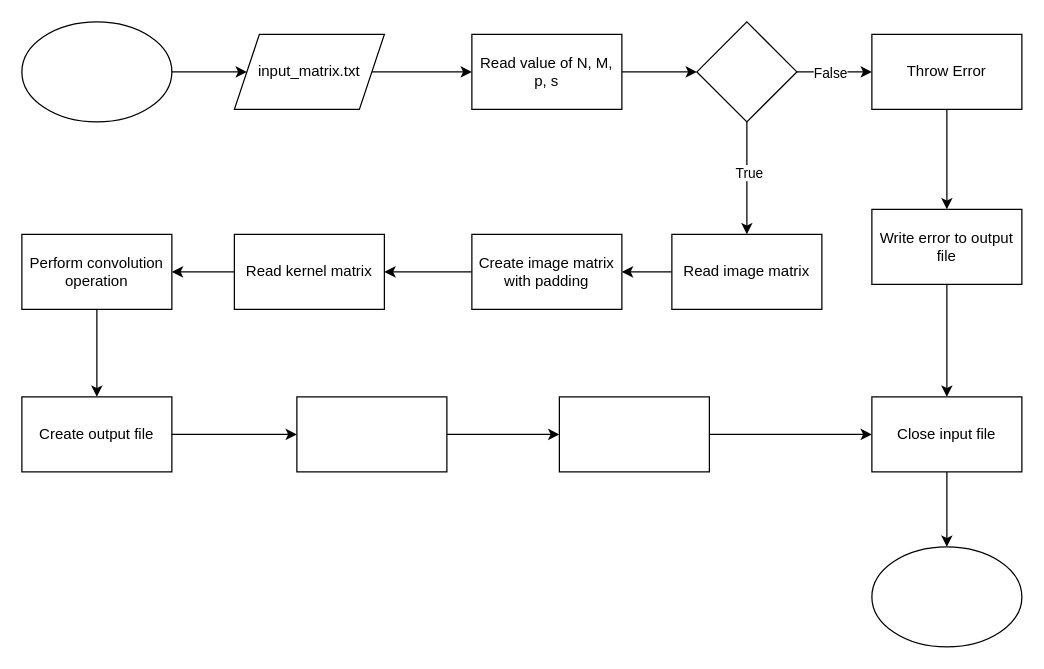
The diagram is 1044 pixels wide and 669 high, and some of its shapes have lost their labels. Here are the shapes that lost their labels. From the top down, the centre of each, then its label:
the point at 96,71: Start
the point at 746,71: Valid
the point at 371,434: Write result to output file
the point at 633,434: Close output file
the point at 946,596: End
